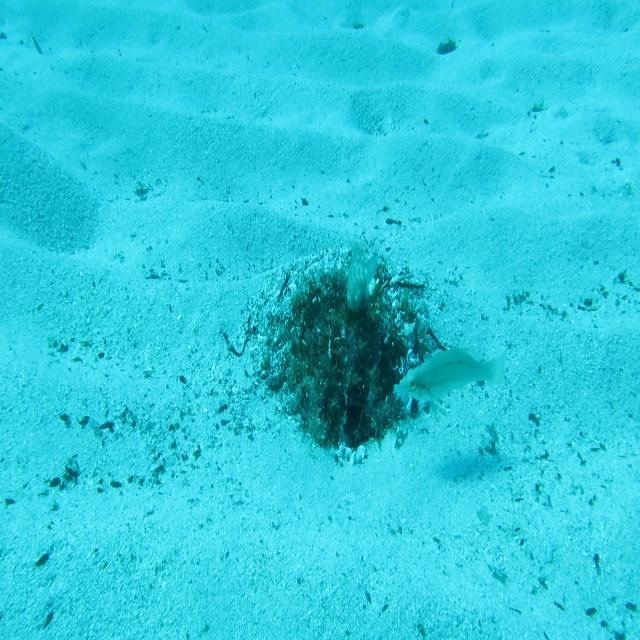NIP_CORE: (344, 237, 379, 315)
core_nest: (319, 298, 374, 350)
female: (399, 343, 510, 410)
nest: (240, 238, 460, 471)
vegetation: (436, 35, 458, 55)
